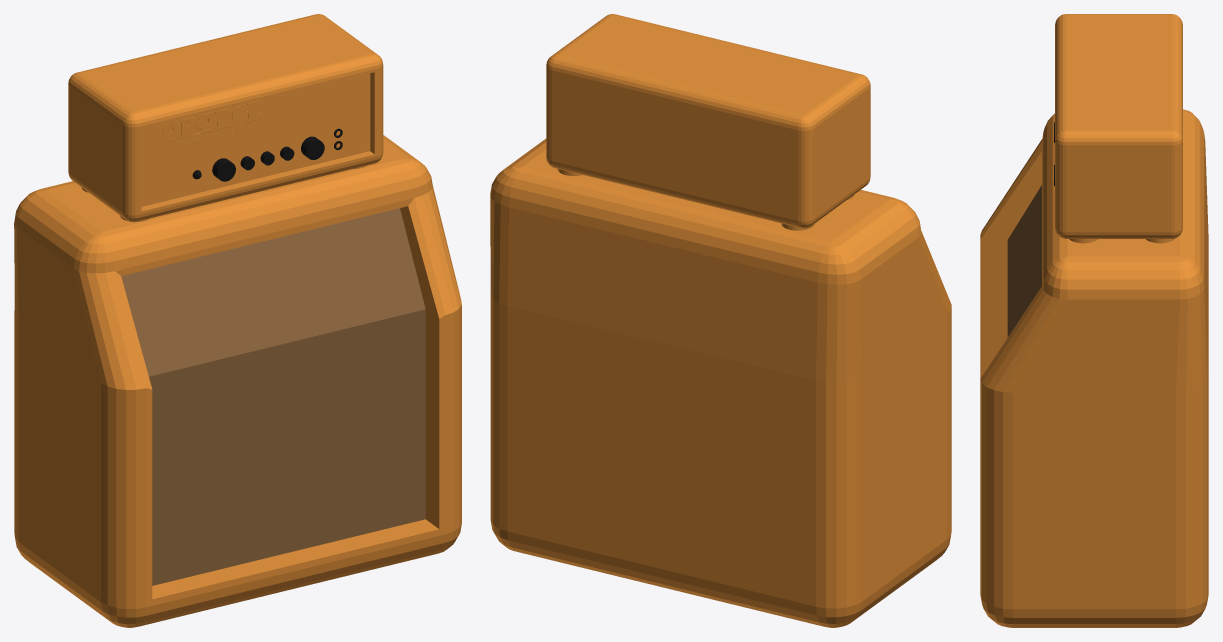
File: Amp.fbx
The picture shows the model from 3 angles, left to right: view 1: azimuth 30°, elevation 25°; view 2: azimuth 150°, elevation 25°; view 3: azimuth 270°, elevation 25°; orthographic projection. The views are drawn at different scales.
Parts seen in each view (by area): view 1: Amp; view 2: Amp; view 3: Amp.
Part boxes in pixels (bbox=[...]): Amp: bbox=[14, 14, 461, 627]; Amp: bbox=[490, 14, 951, 627]; Amp: bbox=[980, 14, 1208, 627].
Bounding box in the file's own units: 147 × 192 × 82.5.
